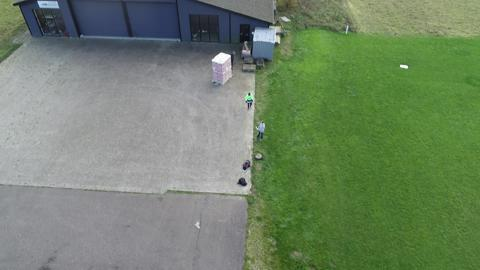RockwoolPallet: (213, 51, 232, 84)
